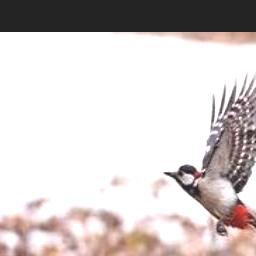Woodpecker: (163, 63, 256, 241)
